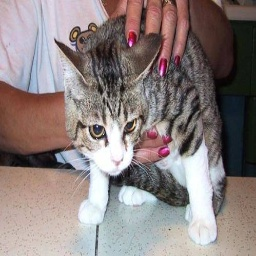cat: (57, 11, 234, 248)
